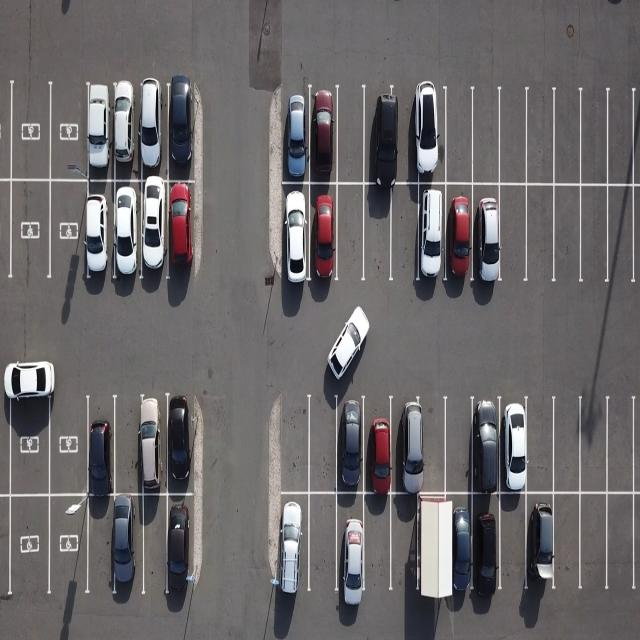space-empty: (6, 380, 48, 496), (48, 388, 92, 495), (6, 493, 48, 598), (48, 178, 88, 286), (8, 77, 49, 181), (9, 179, 49, 285), (492, 493, 531, 598), (307, 494, 344, 602), (50, 81, 89, 181), (358, 496, 396, 598), (548, 492, 585, 596), (112, 396, 150, 495), (412, 496, 448, 599), (573, 494, 610, 594), (308, 396, 344, 496), (574, 396, 610, 496), (605, 493, 640, 595), (386, 495, 422, 594), (439, 398, 476, 494), (606, 183, 640, 287), (550, 395, 586, 493), (606, 394, 640, 494), (277, 396, 311, 496), (524, 399, 559, 495), (83, 496, 116, 596), (577, 183, 609, 286), (551, 184, 583, 285), (526, 184, 558, 284), (415, 400, 449, 494), (336, 184, 367, 286), (337, 85, 369, 183), (390, 186, 422, 284), (497, 184, 528, 285), (607, 90, 639, 187), (576, 90, 608, 186), (552, 89, 584, 184), (361, 181, 392, 279), (140, 493, 170, 594), (527, 92, 558, 187), (442, 93, 473, 187), (472, 90, 502, 184), (496, 91, 526, 185), (394, 89, 422, 183)
space-occupied: (434, 496, 475, 602), (48, 492, 90, 595), (274, 492, 312, 603), (466, 494, 504, 598), (166, 180, 204, 282), (334, 490, 369, 598), (524, 489, 561, 591), (167, 494, 203, 598), (166, 398, 203, 497), (80, 178, 114, 285), (361, 86, 398, 184), (392, 397, 429, 495), (494, 400, 532, 495), (111, 496, 146, 598), (84, 397, 118, 499), (112, 177, 145, 282), (470, 398, 506, 494), (441, 182, 474, 286), (361, 399, 396, 496), (334, 398, 368, 495), (416, 183, 448, 284), (138, 180, 169, 284), (472, 183, 503, 286), (138, 396, 170, 495), (310, 182, 341, 284), (310, 85, 342, 183), (414, 91, 447, 185), (283, 183, 311, 288), (168, 83, 198, 181), (137, 82, 166, 182), (85, 82, 113, 180), (284, 86, 311, 185), (114, 81, 142, 176)
